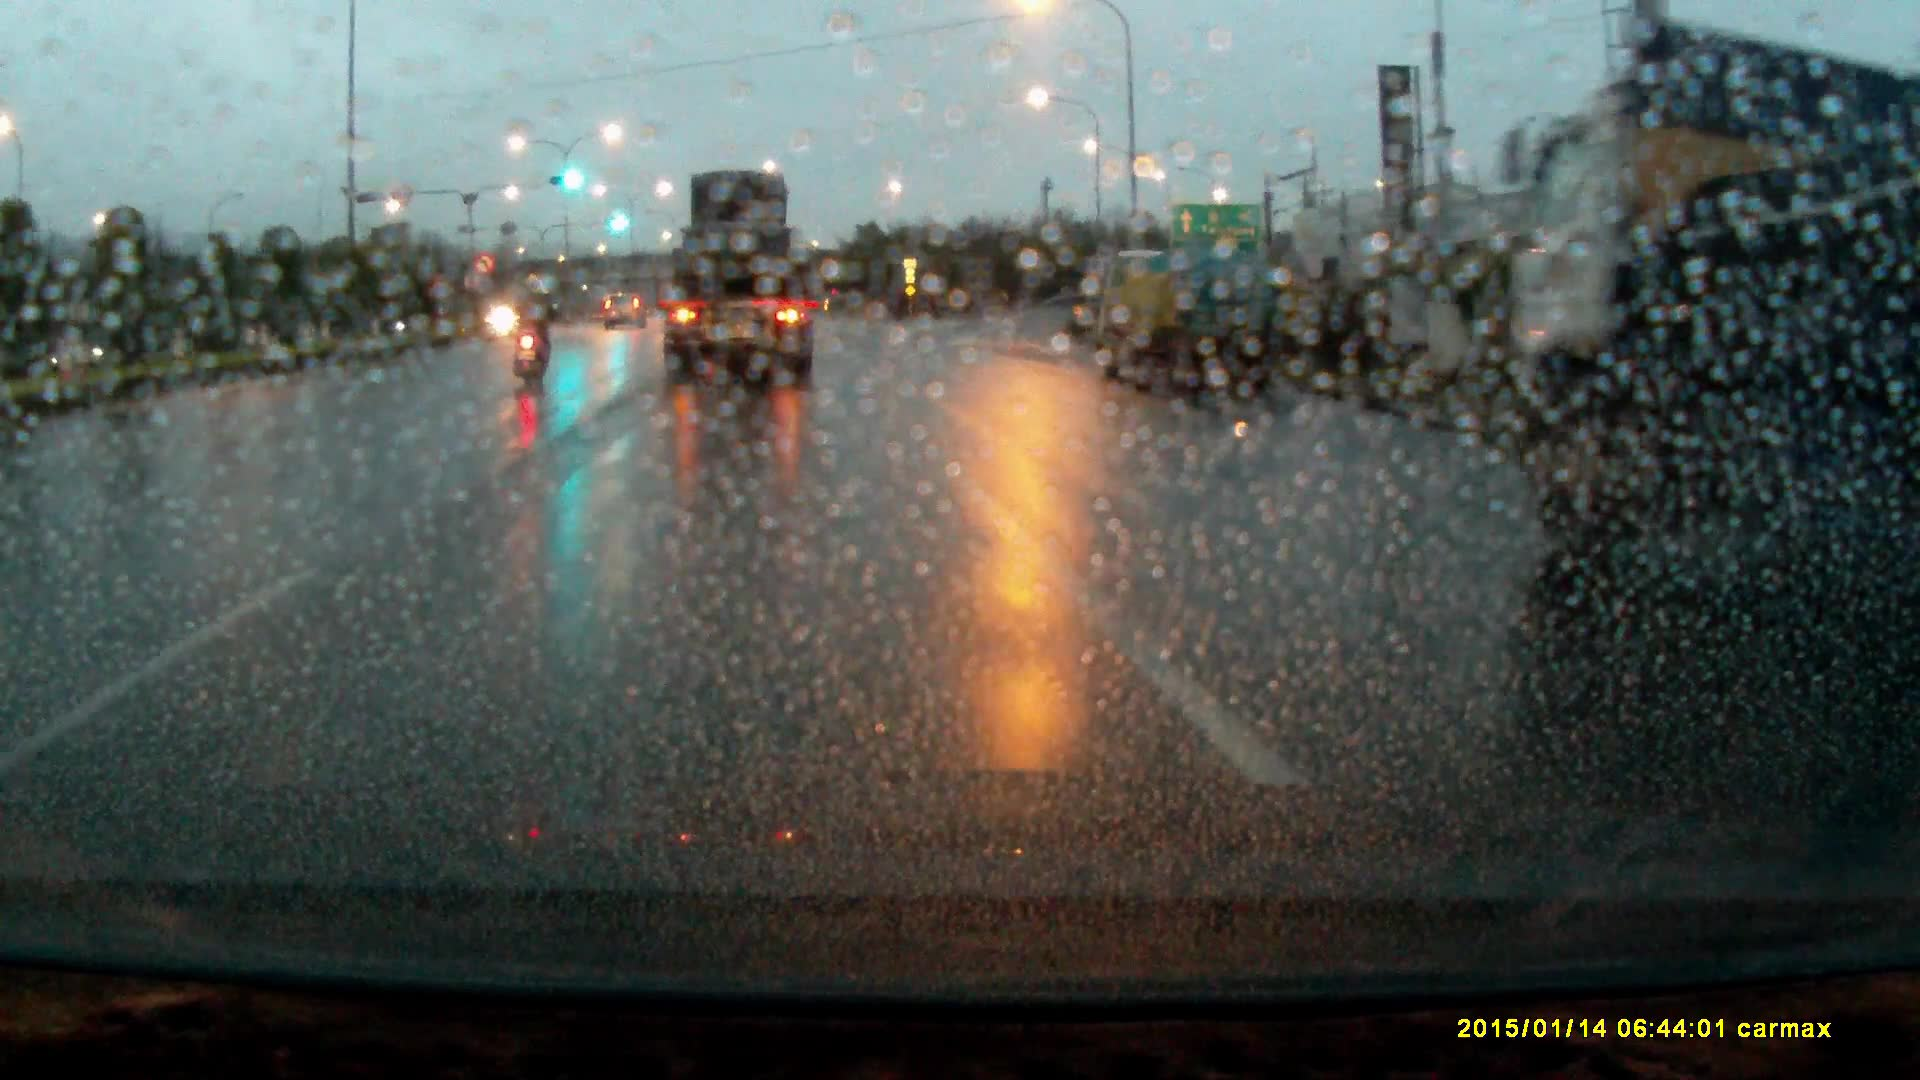rider: (509, 272, 563, 379)
vehicle: (1522, 26, 1920, 548), (658, 169, 818, 395), (1082, 251, 1293, 401), (603, 294, 647, 334)
